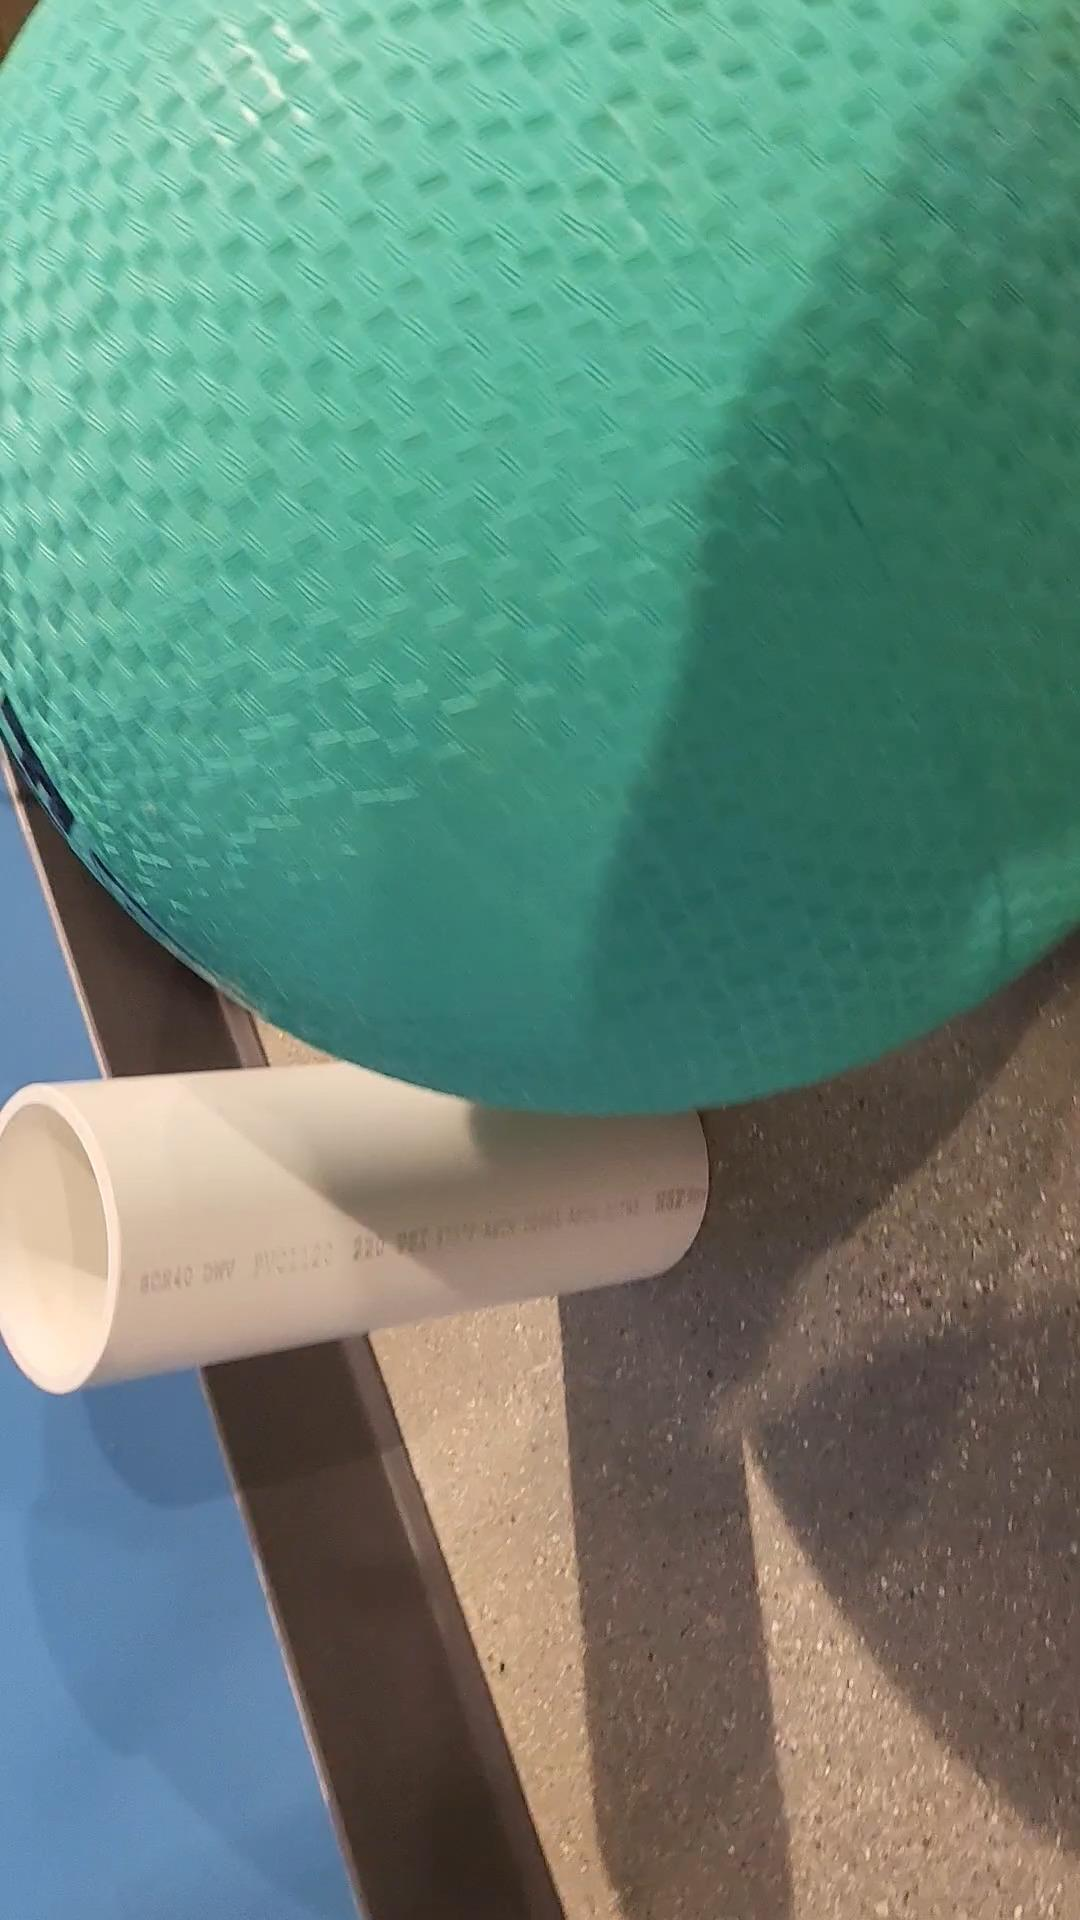algae: (0, 0, 1079, 1124)
coral: (0, 1068, 716, 1407)
